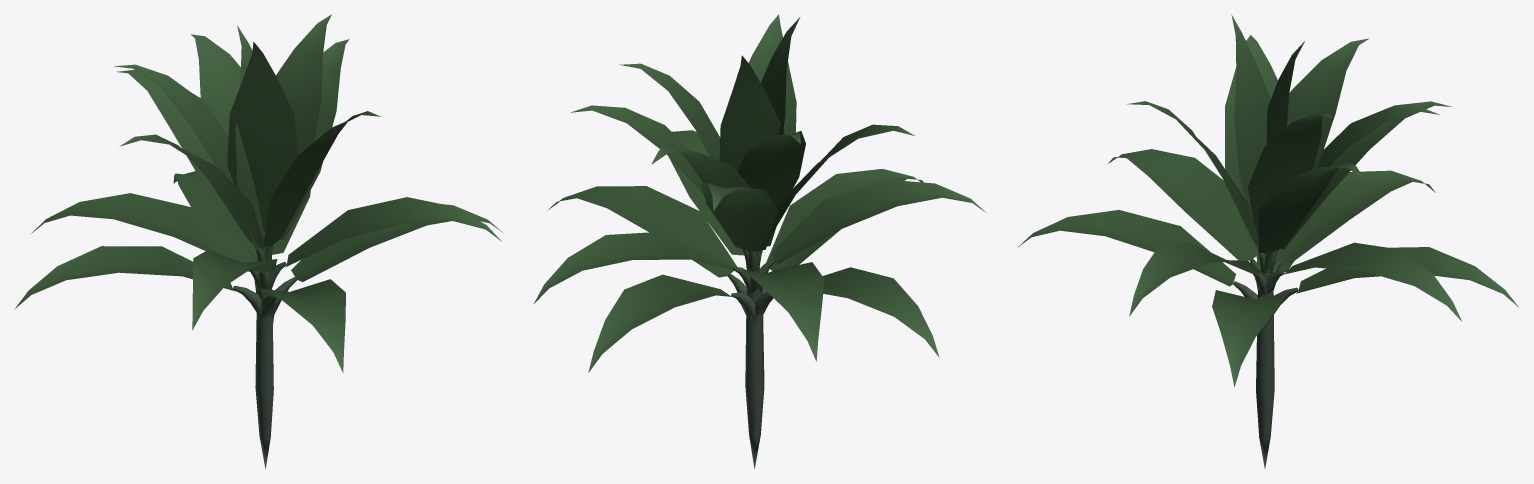
Rendered from plants-leafy-plants-pointed-leaf-plant_v4.glb.
The picture shows the model from 3 angles, left to right: view 1: azimuth 30°, elevation 25°; view 2: azimuth 150°, elevation 25°; view 3: azimuth 270°, elevation 25°; orthographic projection.
Visible parts, largest first — view 1: Pointed Leaf Plant_v4; view 2: Pointed Leaf Plant_v4; view 3: Pointed Leaf Plant_v4.
Part boxes in pixels (bbox=[...]): Pointed Leaf Plant_v4: bbox=[14, 14, 503, 469]; Pointed Leaf Plant_v4: bbox=[533, 14, 985, 468]; Pointed Leaf Plant_v4: bbox=[1017, 14, 1518, 468].
Size of the model in its own units: 0.4997 by 0.4841 by 0.5.
